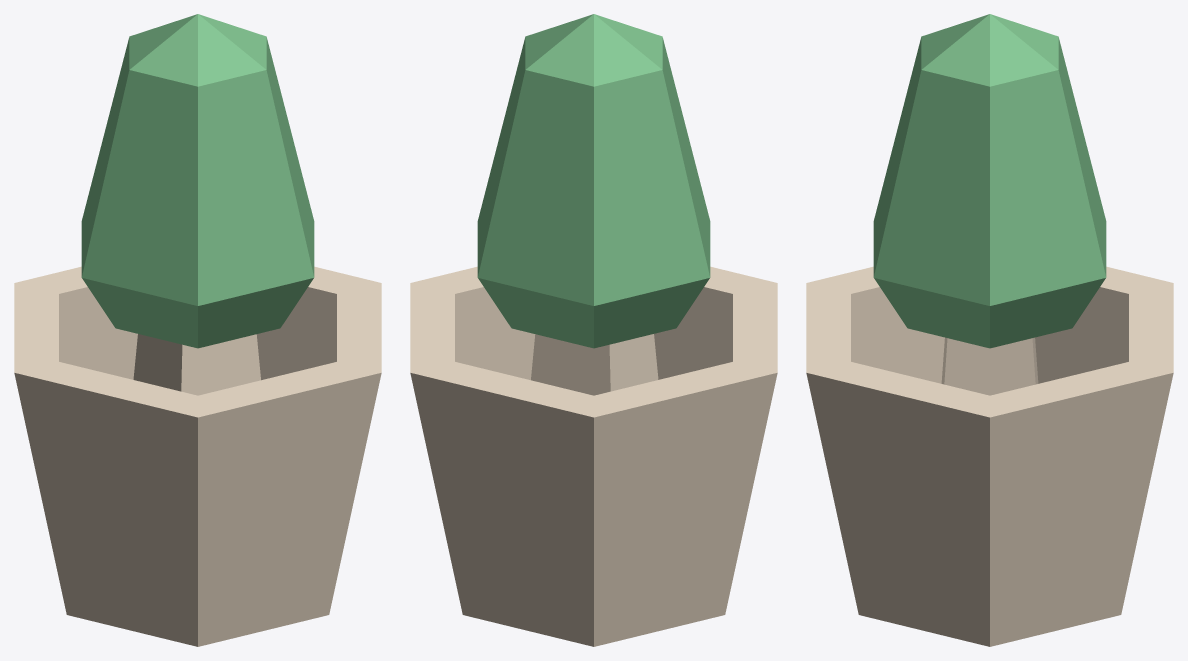
File: furn_aloe.glb
3 views of the same model, side by side, from view 1: azimuth 30°, elevation 25°; view 2: azimuth 150°, elevation 25°; view 3: azimuth 270°, elevation 25° (orthographic).
Parts seen in each view (by area): view 1: aloe; view 2: aloe; view 3: aloe.
Part boxes in pixels (x1,y1,x2,y2): aloe: [14, 14, 381, 646]; aloe: [410, 14, 777, 646]; aloe: [806, 14, 1173, 646].
Size of the model in its own units: 0.2568 by 0.38 by 0.2224.
